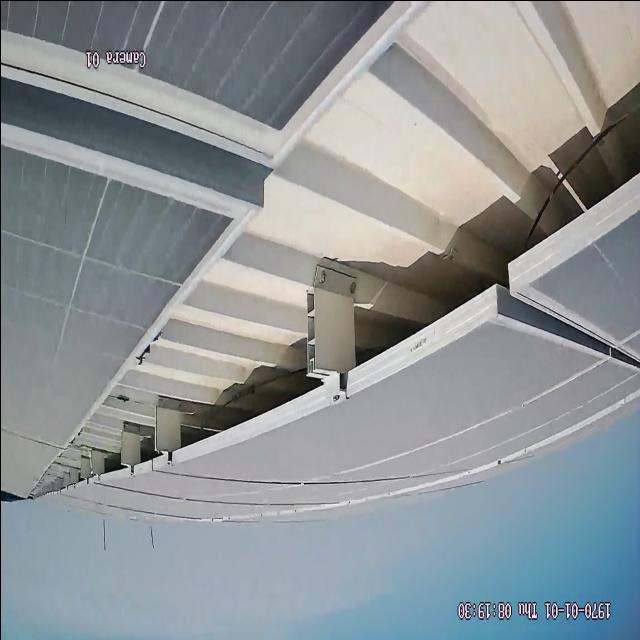interior panel: (0, 31, 264, 213), (491, 287, 640, 374)
outher panel: (27, 0, 640, 496)
